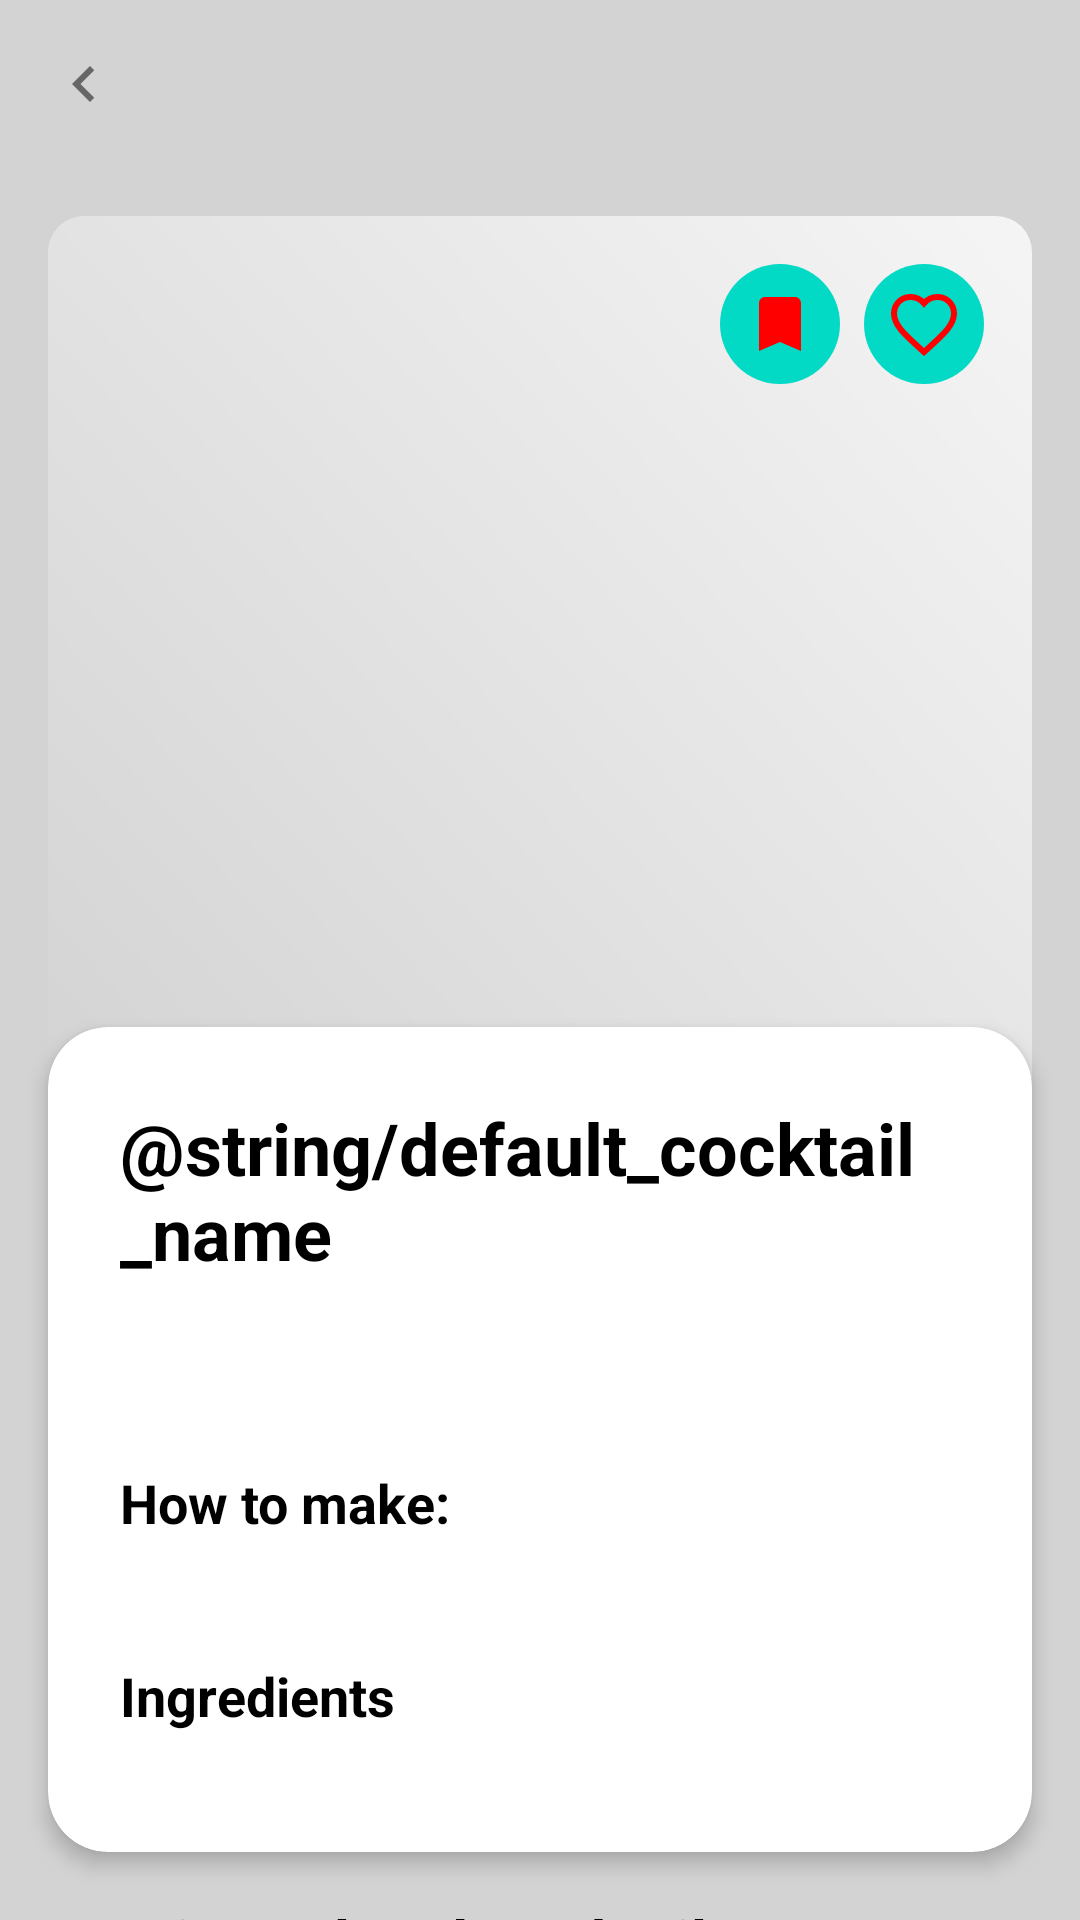

Icon bounding boxes for this 1080px×1920px phone screenshot, format [x1,y1,x2,y2]:
Bookmark: [720,264,840,384]
Favorite: [864,264,984,384]
